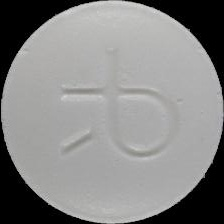0228-2348: (0, 0, 224, 224)
